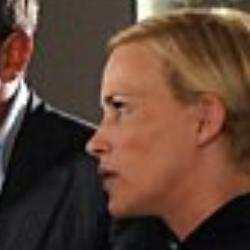face: (80, 5, 249, 225)
